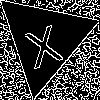X: (19, 15, 65, 70)
